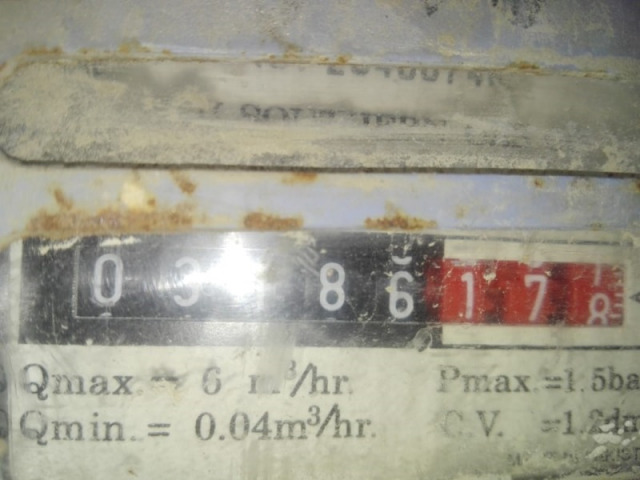ssgc: (27, 228, 637, 346)
